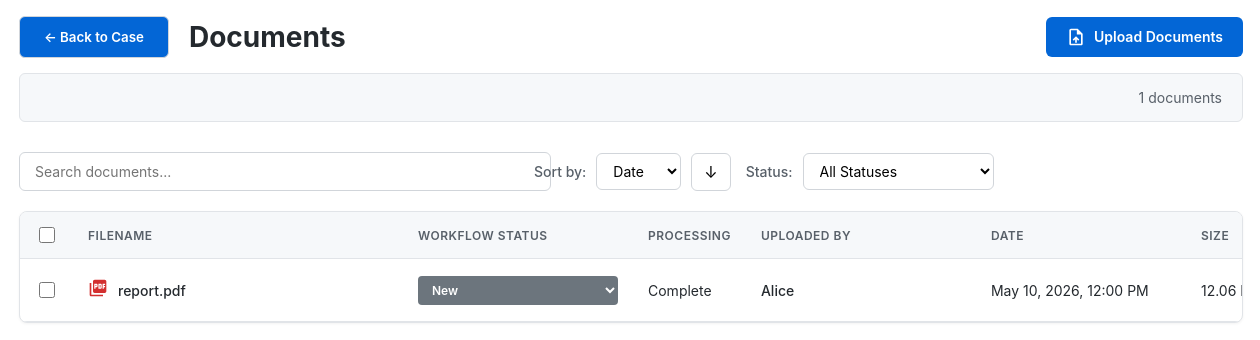
Test case: CaseDocuments — initial render › shows search empty state when query matches nothing
Expected: the text "report.pdf" is shown, [118,282,186,298]
Step 1. Type "xxx" into the field with placeholder "Search documents..." → [285, 172], box [19,152,551,191]
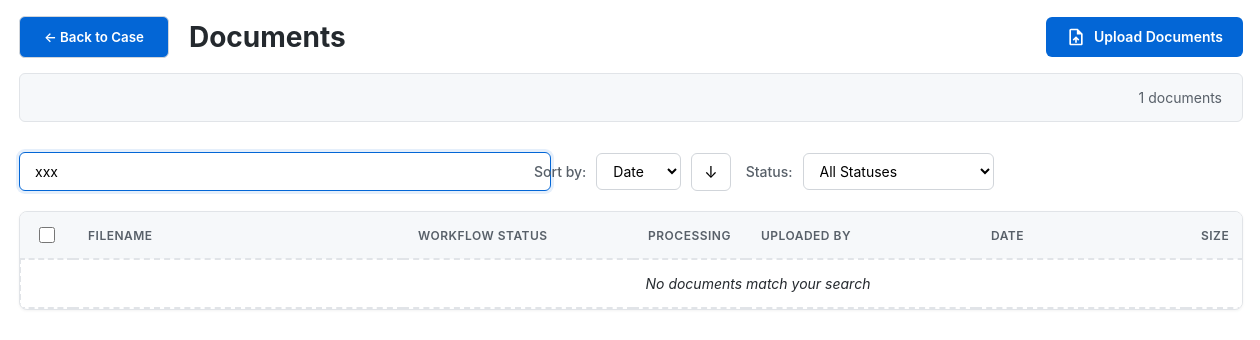
Expected: the text "No documents match your search" is shown, [20,259,1243,308]
